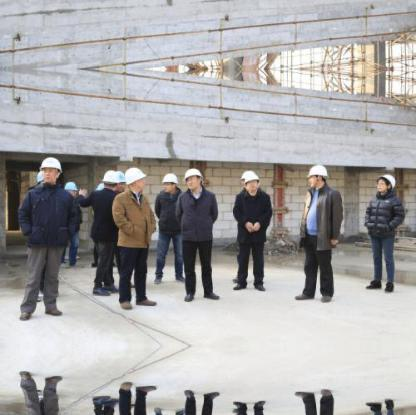helmet: (124, 165, 147, 186), (38, 156, 63, 174), (307, 164, 330, 181), (161, 172, 180, 187), (379, 173, 397, 188), (182, 168, 204, 179), (103, 168, 119, 183), (240, 169, 257, 181), (63, 181, 80, 192), (34, 169, 46, 183), (115, 171, 126, 183), (245, 175, 258, 183), (96, 183, 104, 191)
